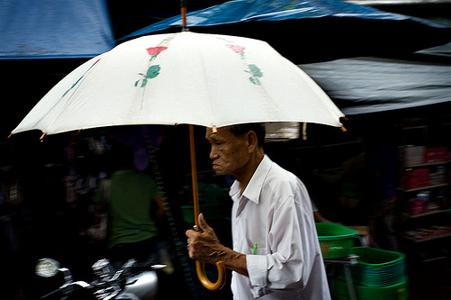person: (186, 123, 331, 300)
